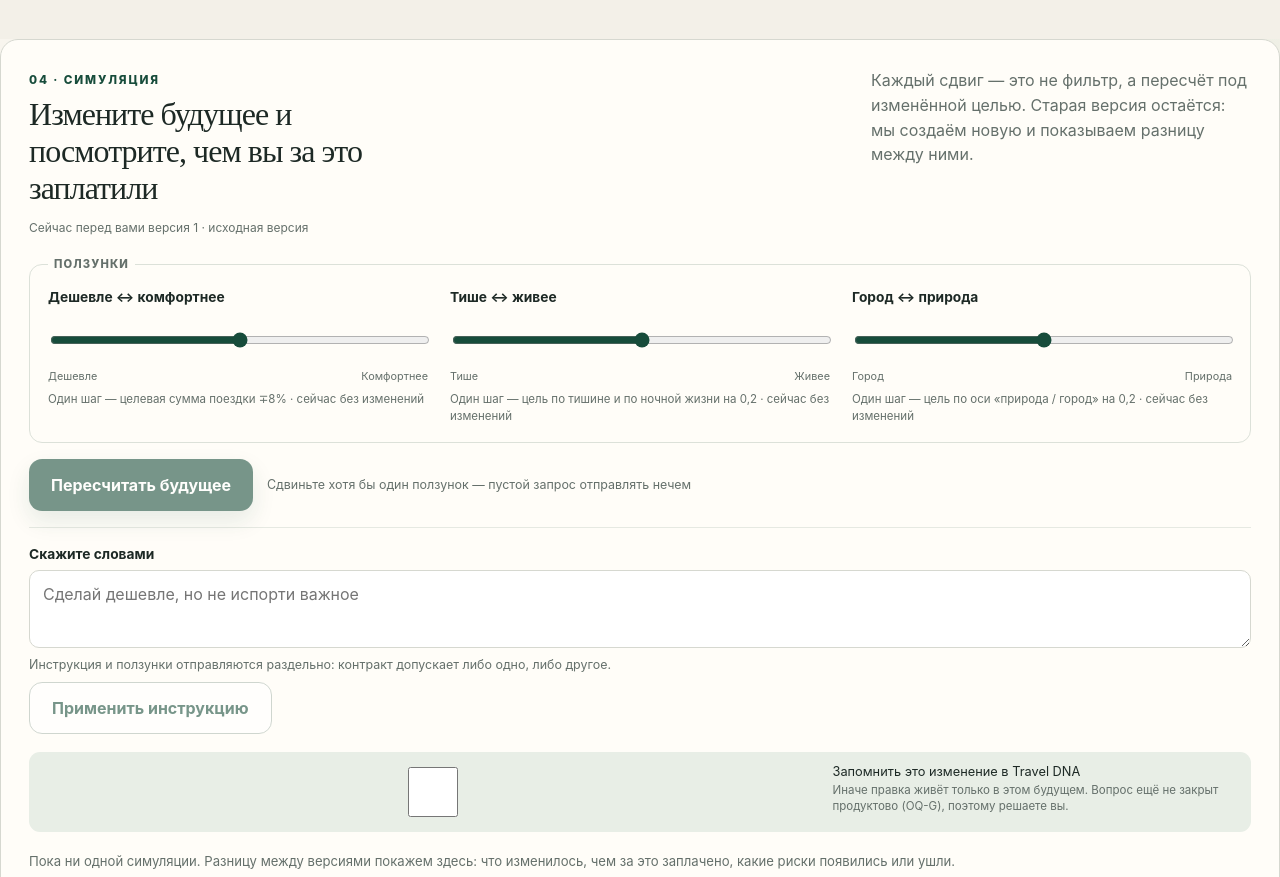
Test: SimulatorPanel › renders the delta items and their sum equals the displayed total change
The image size is (1280, 877).
Set the slider labelled "Дешевле ↔ комфортнее" to "-1" at (179, 340), box [50,315,430,365]
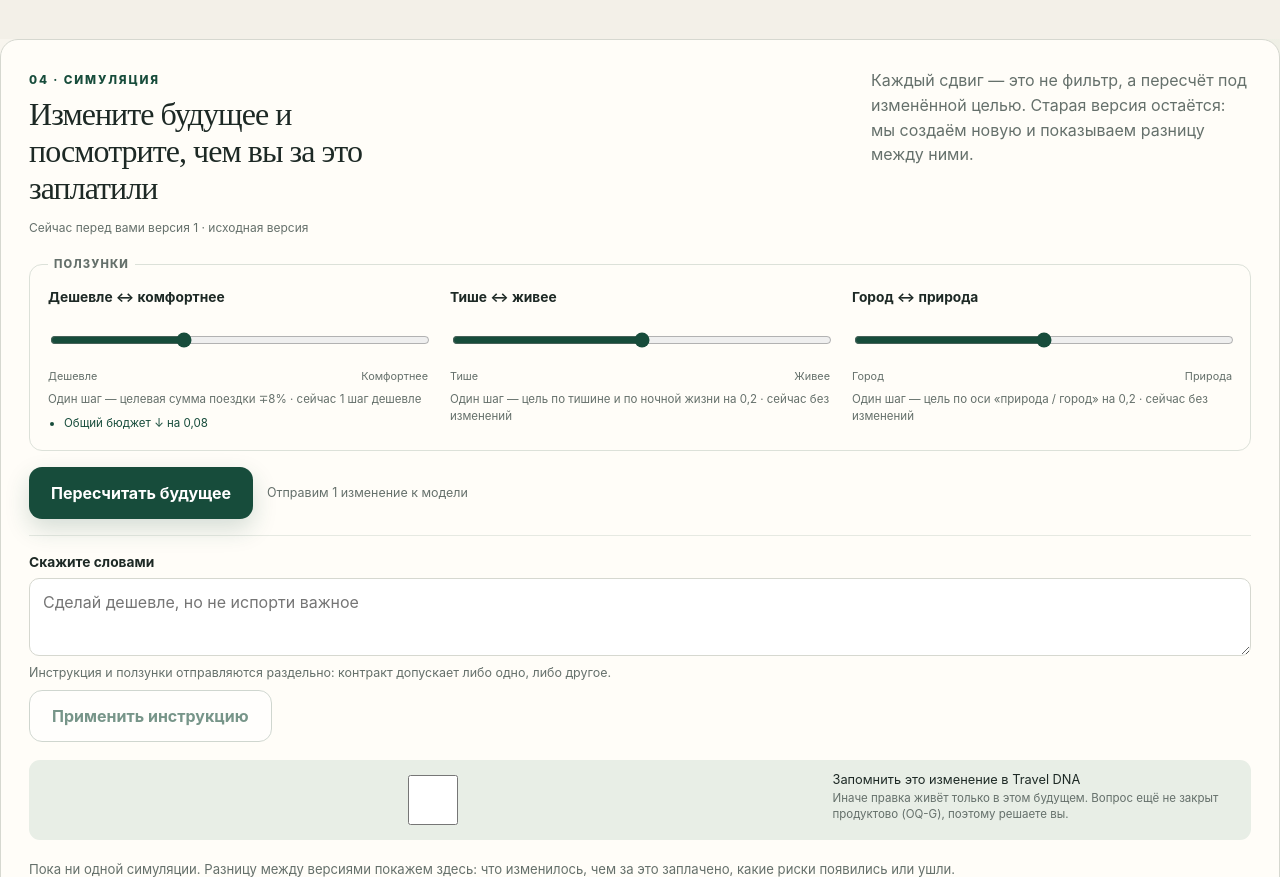
Click the button "Пересчитать будущее" at (141, 493), box [29,467,253,519]
(page scrolled)
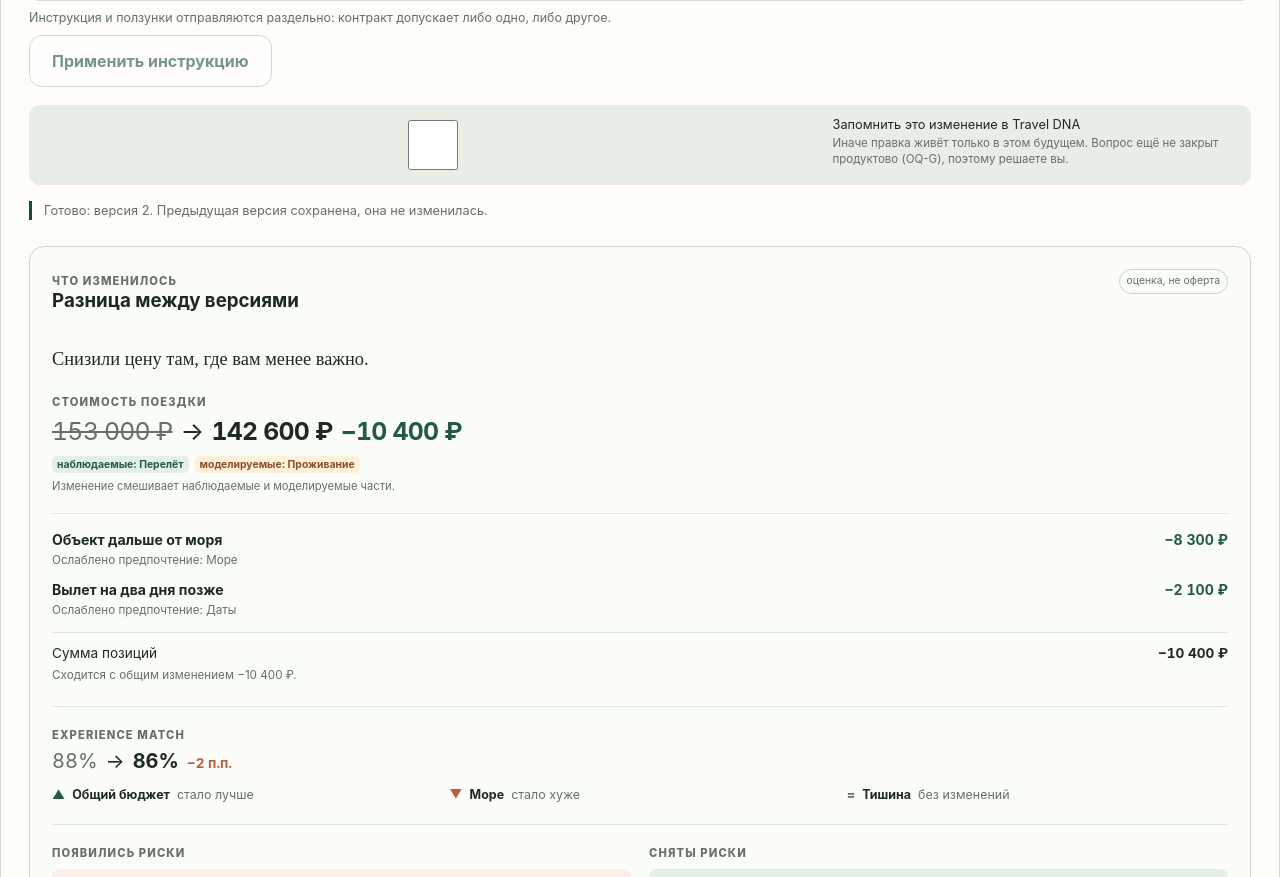
Expected: the heading "Разница между версиями" is shown, [52,289,299,312]
Expected: the text "Объект дальше от моря" is shown, [52,530,238,550]
Expected: the text "Вылет на два дня позже" is shown, [52,580,236,599]
